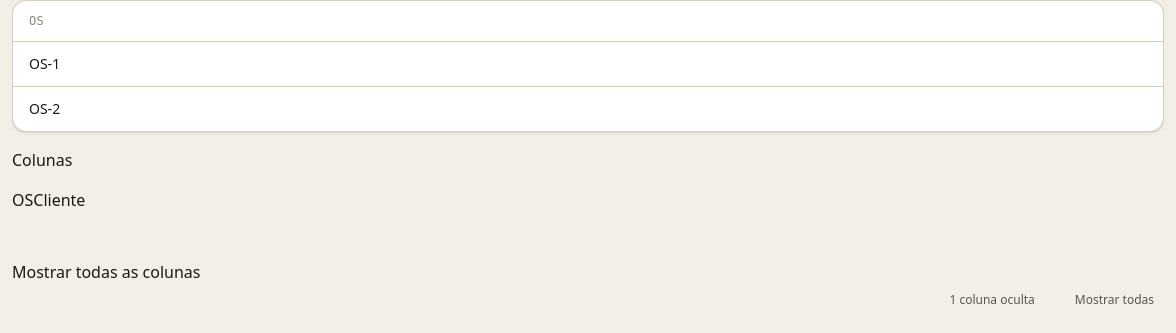
Test case: DataList — exibir/ocultar colunas › mostrar todas devolve as colunas e limpa a preferência
The width and height of the screenshot is (1176, 333).
Click the button "Mostrar todas": coordinates (1103, 300) [1043, 284, 1164, 316]
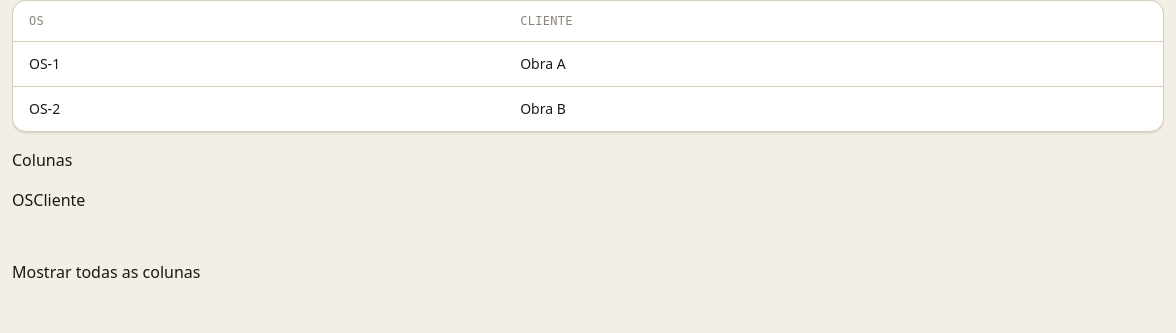
Check: the column heading "Cliente" is shown, box [504, 1, 1163, 42]
